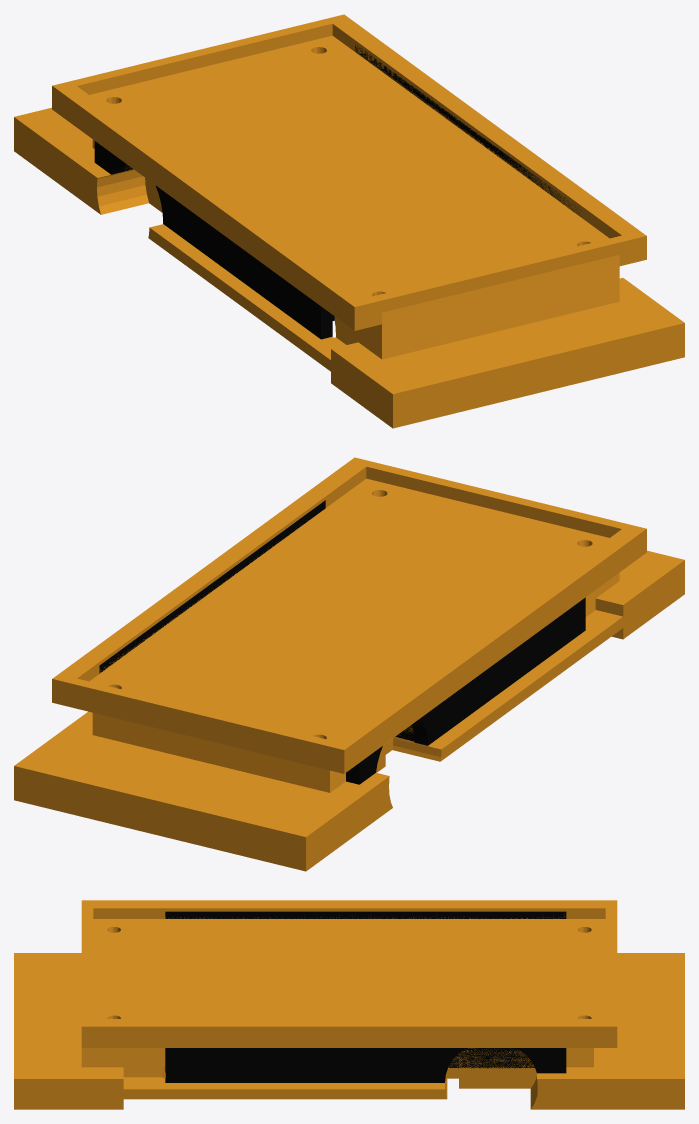
The model's file is chassis.dae.
3 views of the same model, one above another, from view 1: azimuth 30°, elevation 25°; view 2: azimuth 150°, elevation 25°; view 3: azimuth 270°, elevation 25° (orthographic). The views are drawn at different scales.
Visible parts, largest first — view 1: chassis; view 2: chassis; view 3: chassis.
Boxes of the visible parts, bbox=[...] form: chassis: bbox=[14, 14, 684, 428]; chassis: bbox=[14, 457, 684, 871]; chassis: bbox=[14, 900, 684, 1109].
Size of the model in its own units: 1.28 by 2.88 by 0.392.
